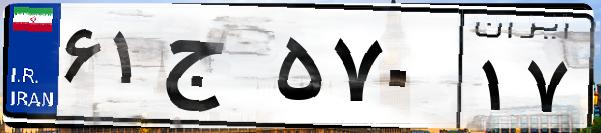0: (385, 28, 445, 110)
1: (475, 38, 525, 113), (110, 28, 158, 98)
5: (270, 28, 330, 110)
6: (57, 26, 110, 100)
7: (330, 28, 385, 110), (525, 38, 570, 115)
ج: (158, 20, 270, 120)
